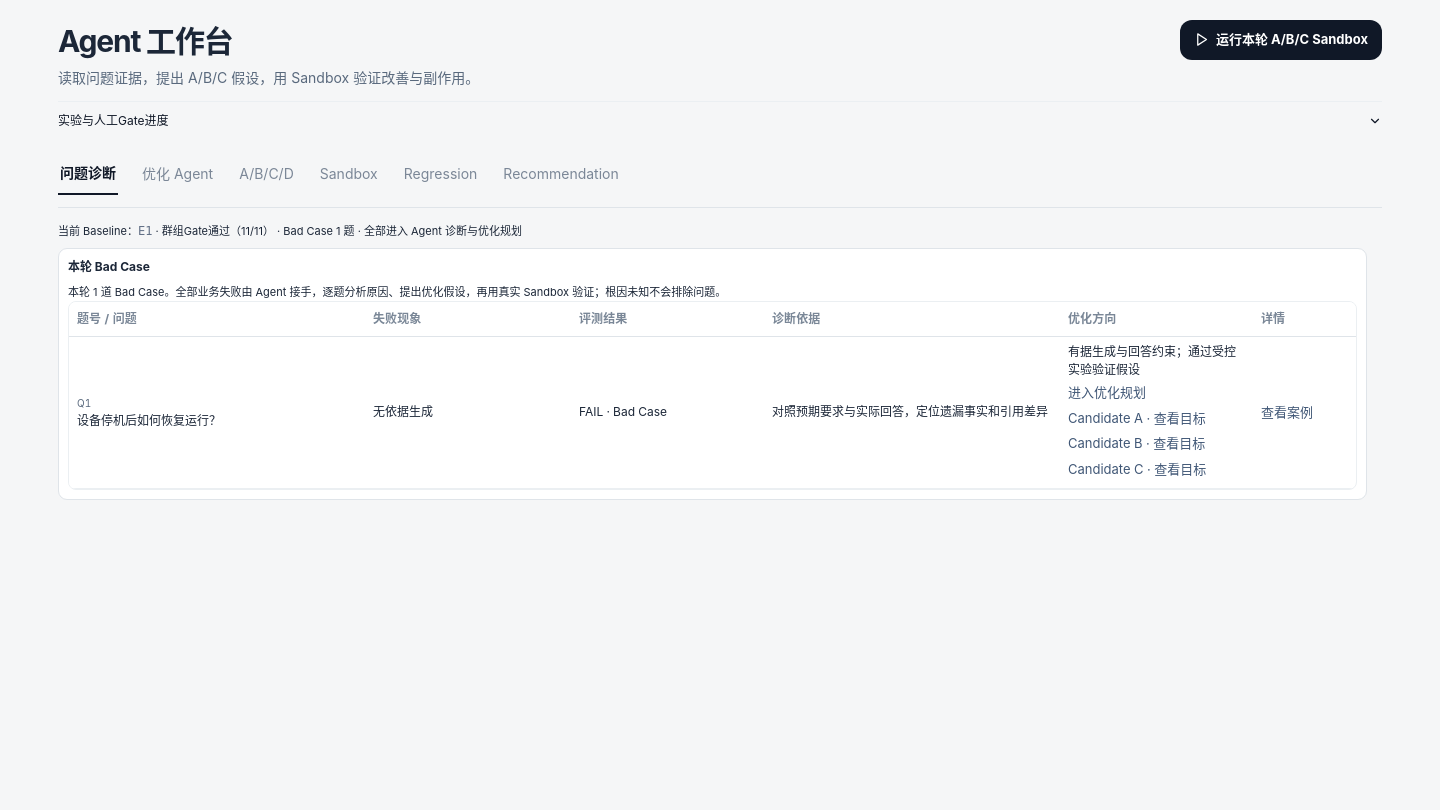
Test: shows six decision rows and blocks Gate2 while another candidate is generated
The width and height of the screenshot is (1440, 810).
Click the button "Sandbox". click: (349, 174)
box: [318, 152, 380, 195]
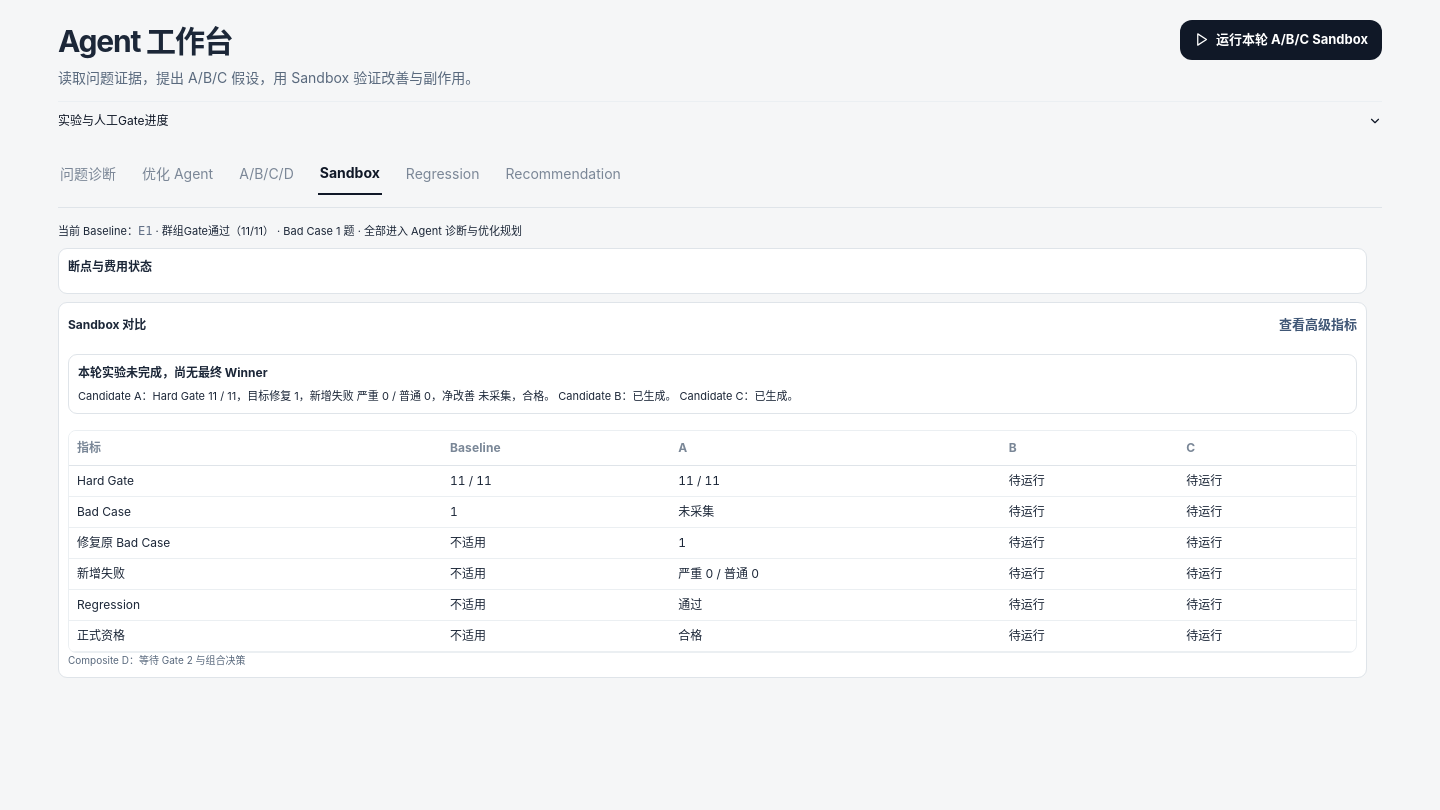
Expected: the text "运行本轮 A/B/C Sandbox" is shown, [1180, 20, 1382, 60]
Now the element with class "sandbox-core-table" shows "修复原 Bad Case", box [77, 535, 170, 550]
